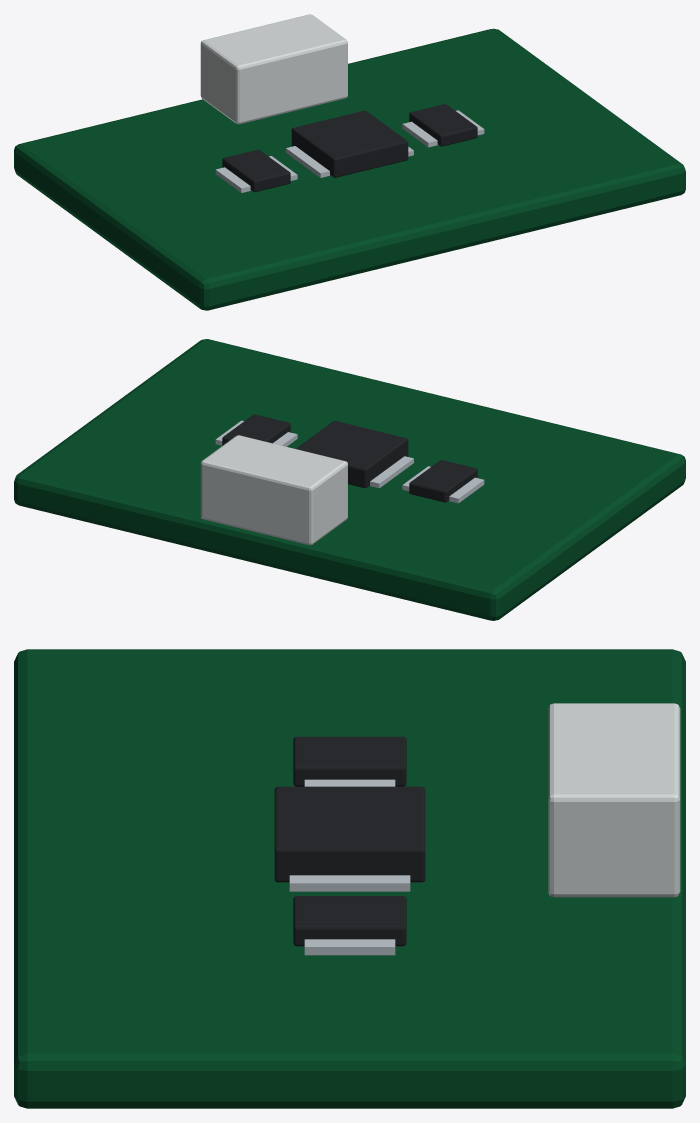
The model's file is imu_mpu6050.glb.
3 views of the same model, one above another, from view 1: azimuth 30°, elevation 25°; view 2: azimuth 150°, elevation 25°; view 3: azimuth 270°, elevation 25° (orthographic). The views are drawn at different scales.
Visible parts, largest first — view 1: part_imu_mpu6050__pcb, part_imu_mpu6050__polymer, part_imu_mpu6050__black_polymer, part_imu_mpu6050__steel; view 2: part_imu_mpu6050__pcb, part_imu_mpu6050__polymer, part_imu_mpu6050__black_polymer, part_imu_mpu6050__steel; view 3: part_imu_mpu6050__pcb, part_imu_mpu6050__polymer, part_imu_mpu6050__black_polymer, part_imu_mpu6050__steel.
Part boxes in pixels (bbox=[...]): part_imu_mpu6050__pcb: bbox=[14, 28, 685, 310]; part_imu_mpu6050__polymer: bbox=[200, 14, 347, 124]; part_imu_mpu6050__black_polymer: bbox=[222, 104, 477, 192]; part_imu_mpu6050__steel: bbox=[215, 110, 484, 192]; part_imu_mpu6050__pcb: bbox=[14, 339, 685, 620]; part_imu_mpu6050__polymer: bbox=[200, 435, 347, 545]; part_imu_mpu6050__black_polymer: bbox=[222, 414, 477, 502]; part_imu_mpu6050__steel: bbox=[215, 420, 484, 503]; part_imu_mpu6050__pcb: bbox=[14, 649, 685, 1108]; part_imu_mpu6050__polymer: bbox=[548, 703, 680, 897]; part_imu_mpu6050__black_polymer: bbox=[274, 736, 425, 946]; part_imu_mpu6050__steel: bbox=[289, 779, 410, 955].
Bounding box in the file's own units: 0.026 × 0.0046 × 0.0178.
